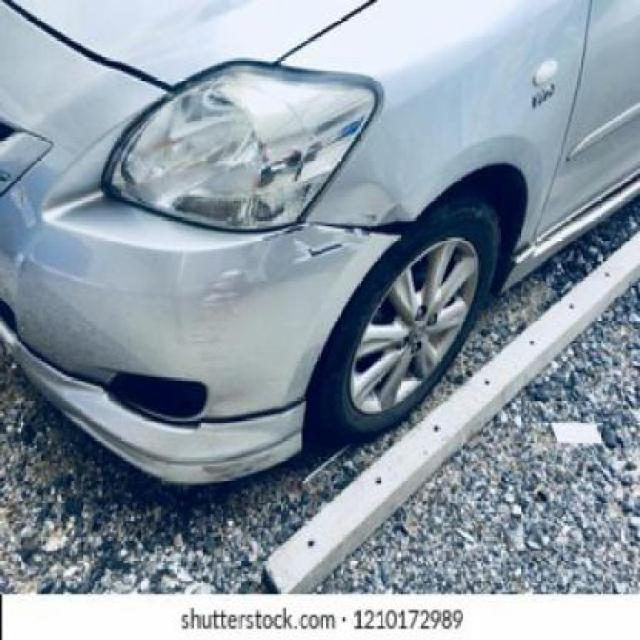fender-dent: (344, 177, 425, 221)
front-bumper-dent: (258, 224, 412, 329)
front-bumper-scratch: (172, 262, 256, 391)
